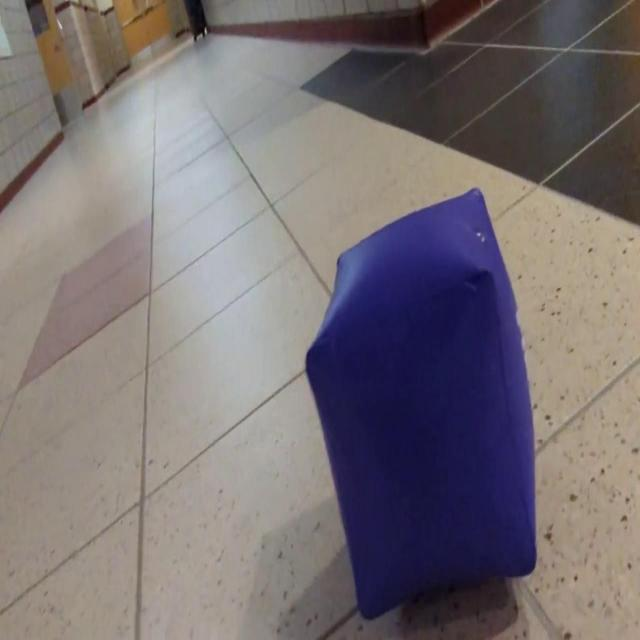frc_cube: (306, 186, 536, 618)
